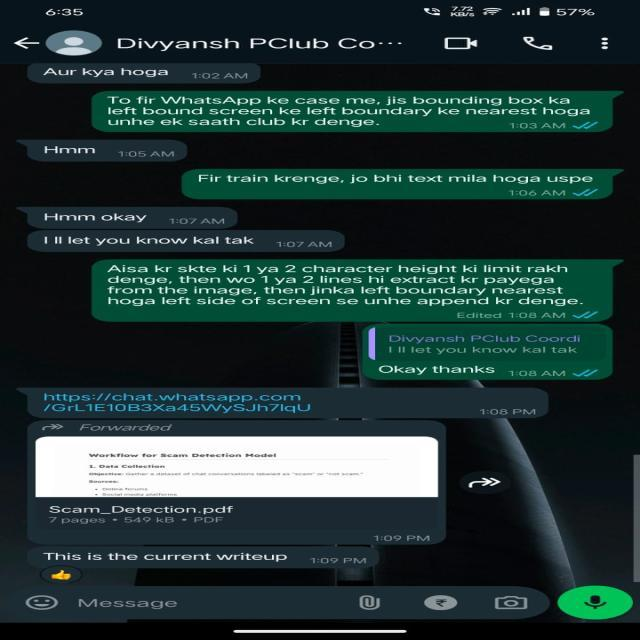scam: (21, 422, 448, 546), (18, 388, 553, 420), (32, 230, 349, 254), (22, 550, 382, 570), (29, 206, 242, 230), (25, 66, 266, 86), (27, 139, 188, 163)
